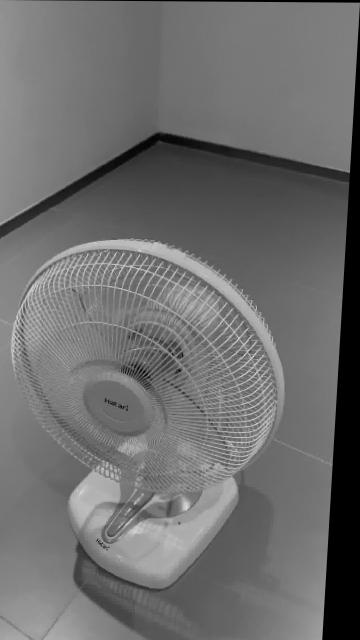Fan: (15, 239, 290, 591)
